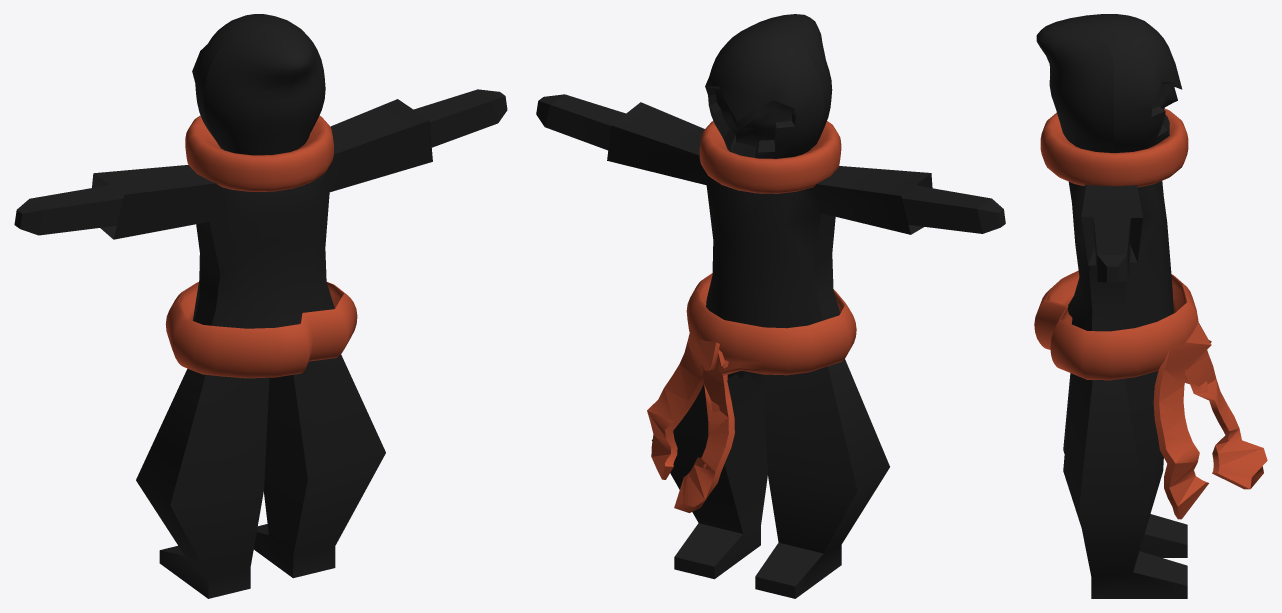
The model's file is Character.fbx.
3 renders of one model, left to right at view 1: azimuth 30°, elevation 25°; view 2: azimuth 150°, elevation 25°; view 3: azimuth 270°, elevation 25°, orthographic. The views are drawn at different scales.
Visible parts, largest first — view 1: Character2_Body_Player_Model; view 2: Character2_Body_Player_Model; view 3: Character2_Body_Player_Model.
Part boxes in pixels (x1=…): Character2_Body_Player_Model: x1=14, y1=14, x2=507, y2=598; Character2_Body_Player_Model: x1=536, y1=14, x2=1005, y2=598; Character2_Body_Player_Model: x1=1034, y1=14, x2=1267, y2=598.
Bounding box in the file's own units: 15.65 × 17 × 6.56.
